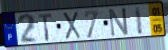2: (17, 13, 39, 45)
7: (83, 9, 101, 39)
I: (134, 6, 144, 37)
N: (108, 6, 130, 38)
T: (37, 13, 54, 43)
X: (61, 11, 83, 41)
